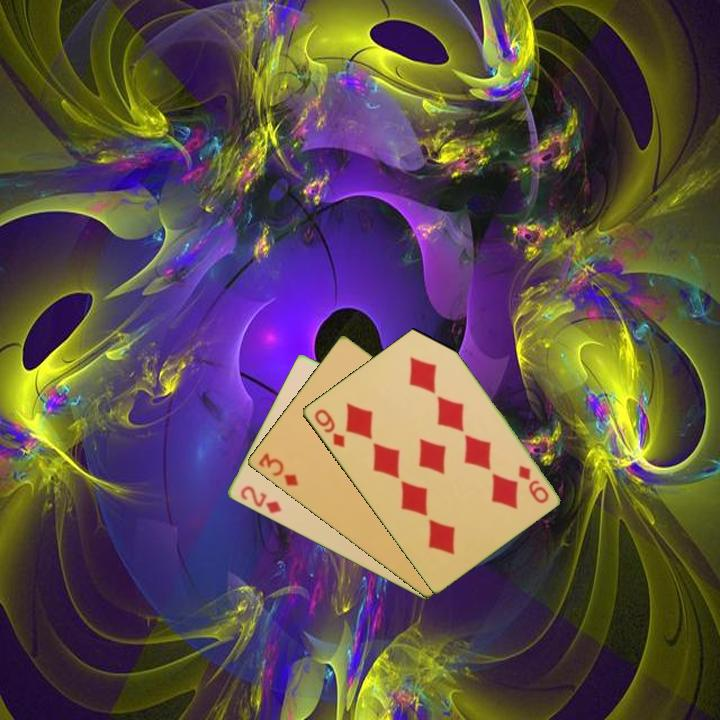2d: (236, 482, 284, 517)
3d: (254, 449, 301, 489)
9d: (514, 461, 552, 506), (310, 405, 347, 450)
